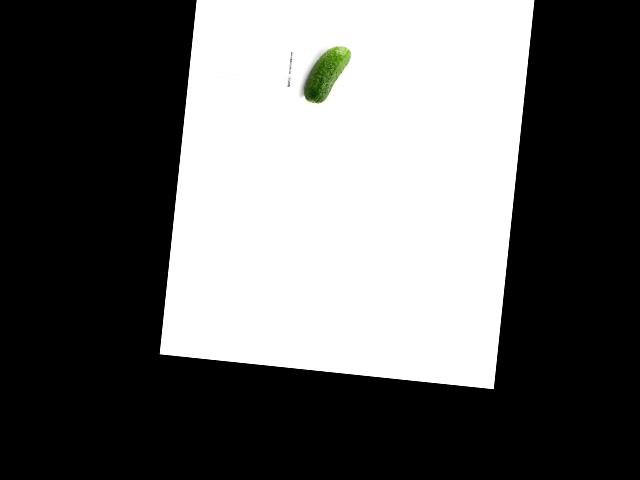cucumber: (302, 43, 351, 106)
